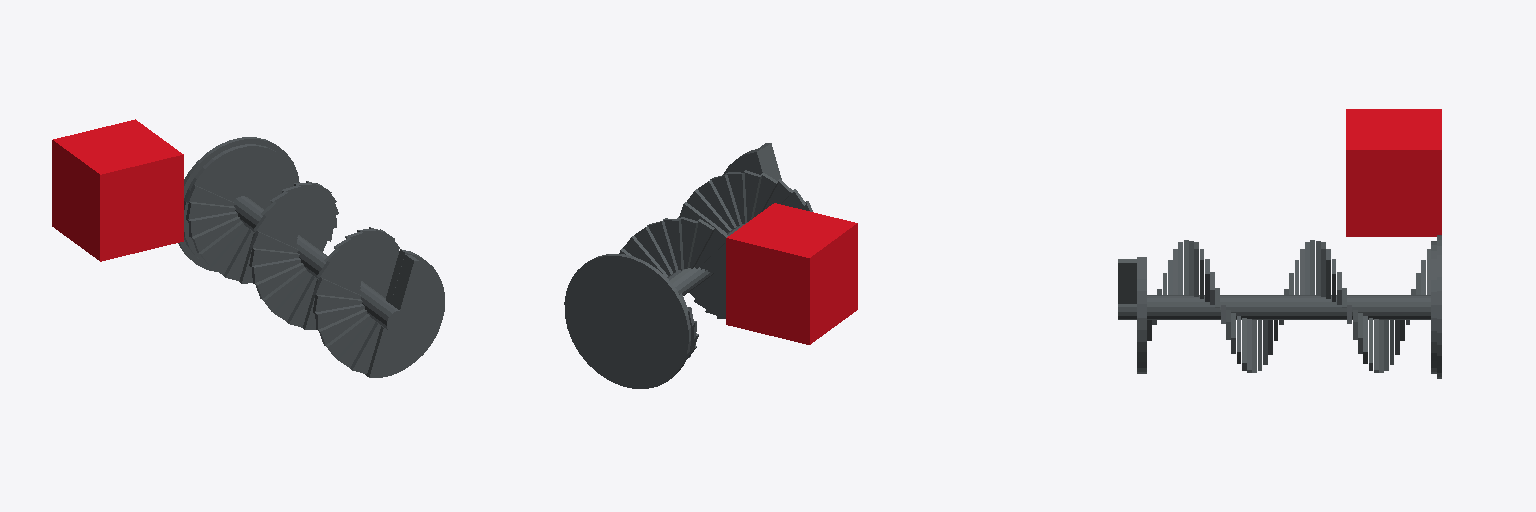
Rendered from tinker.obj.
3 renders of one model, left to right at view 1: azimuth 30°, elevation 25°; view 2: azimuth 150°, elevation 25°; view 3: azimuth 270°, elevation 25°, orthographic.
Visible parts, largest first — view 1: obj_0; view 2: obj_0; view 3: obj_0.
Part boxes in pixels (bbox=[...]): obj_0: bbox=[52, 119, 444, 377]; obj_0: bbox=[564, 143, 857, 388]; obj_0: bbox=[1118, 109, 1441, 378].
Size of the model in its own units: 58.96 by 39.96 by 67.5.